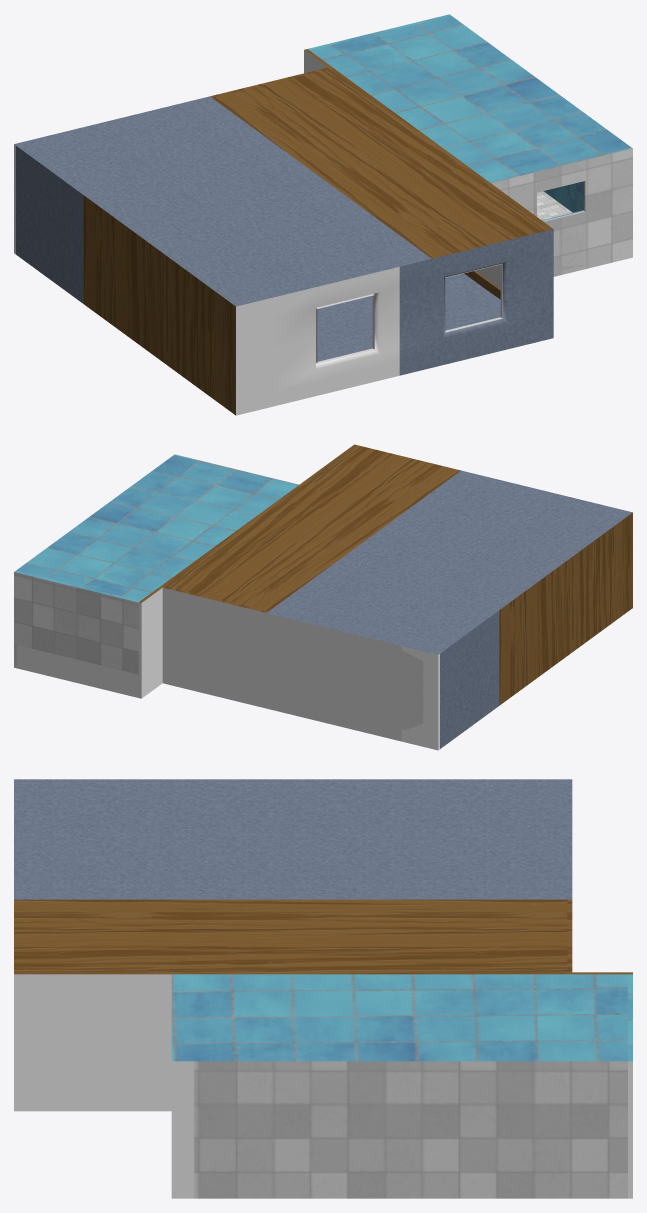
The model's file is Room.fbx.
The picture shows the model from 3 angles, top to bottom: view 1: azimuth 30°, elevation 25°; view 2: azimuth 150°, elevation 25°; view 3: azimuth 270°, elevation 25°; orthographic projection. The views are drawn at different scales.
Parts seen in each view (by area): view 1: Wall1; view 2: Wall1; view 3: Wall1.
Part boxes in pixels (box(x1,y1,x2,y2)): Wall1: box(14, 14, 632, 415); Wall1: box(14, 444, 632, 750); Wall1: box(14, 779, 632, 1198).
Bounding box in the file's own units: 13.75 × 3.12 × 12.75.
